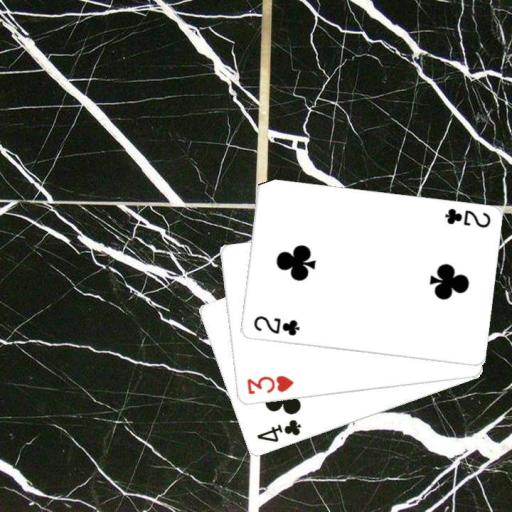2C: (250, 313, 301, 338), (441, 206, 492, 230)
3H: (243, 373, 295, 396)
4C: (253, 417, 303, 444)
